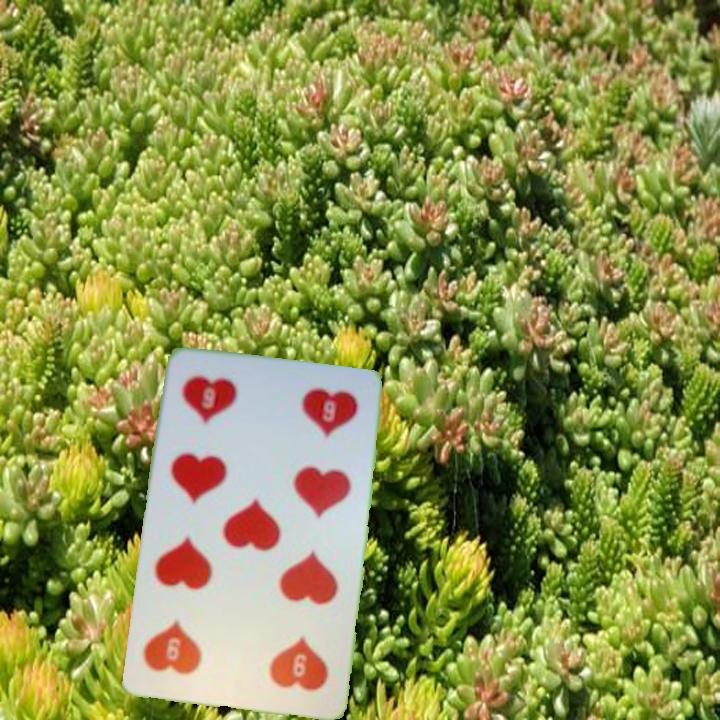h_9.png: (168, 362, 278, 459), (231, 608, 341, 705)
